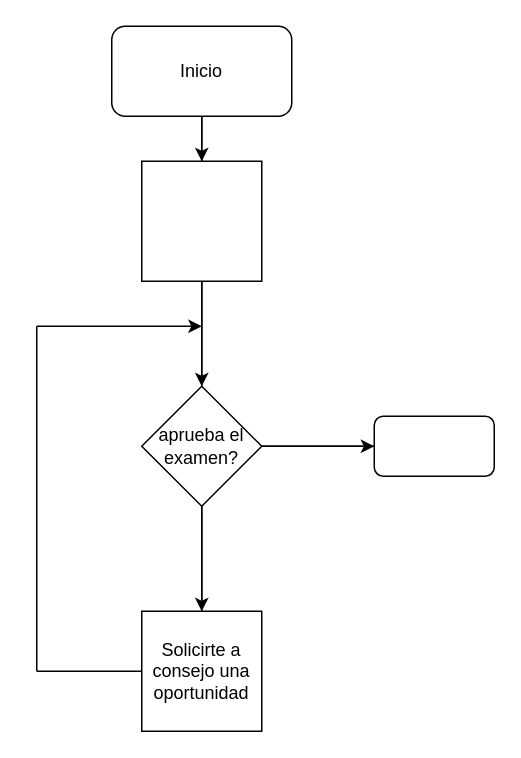
Some shapes in this 521 by 758 pixel diagram are drawn without their labels. Here are the shapes that lost their labels. From the top down, the box of each, then its label:
(140, 160, 262, 281): Un alumno presenta un examen extraordinario
(373, 415, 494, 476): FIN
